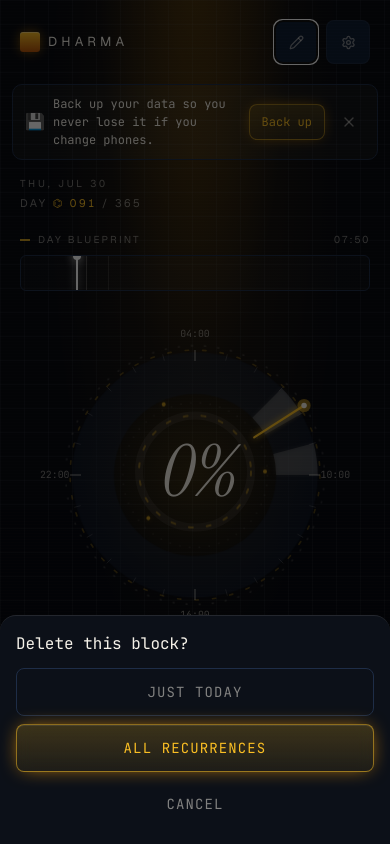
Test: C-m5-014: Edit mode toggle does not dismiss the delete modal › modal stays open after pencil toggle while modal is open
Earlier steps of the test are not shown.
Click the button "Cancel" at [195, 804], box x1=16 y1=780 x2=374 y2=828
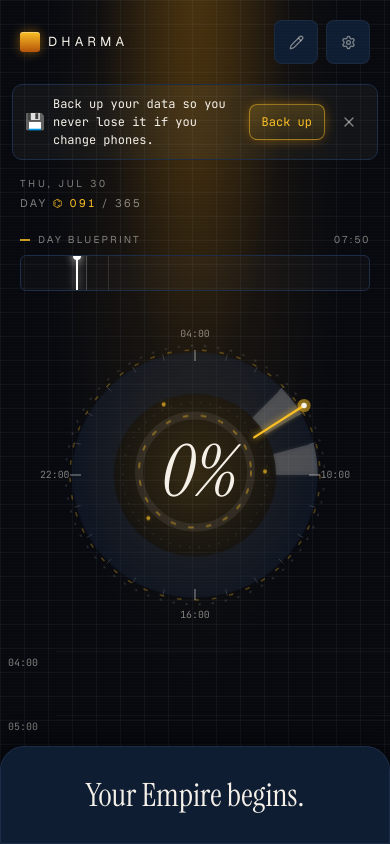
expect the dialog is gone: met
